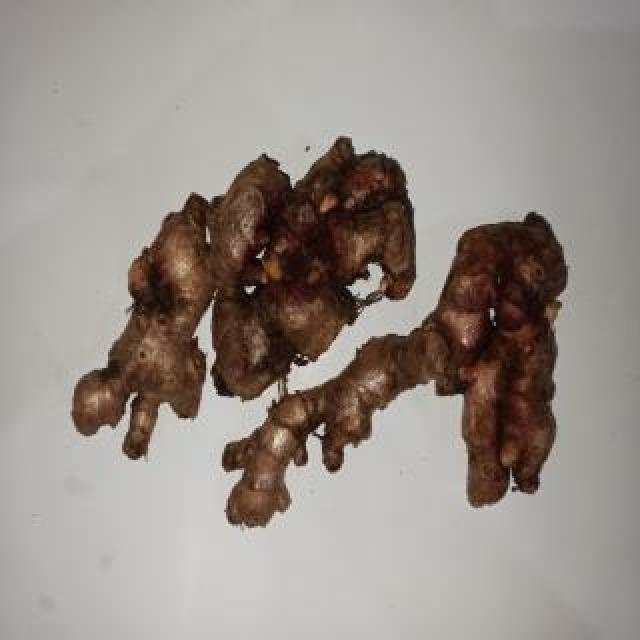ginger: (67, 160, 409, 438), (442, 222, 567, 507)
